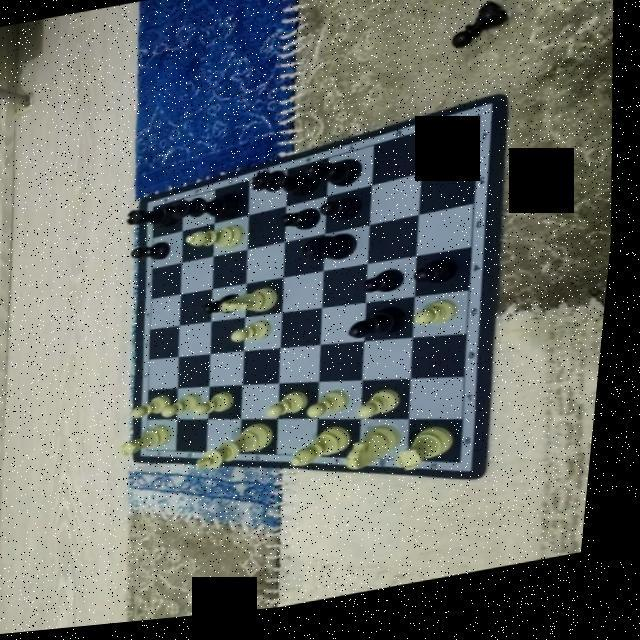chess-table-corners: (474, 118, 490, 132), (461, 468, 476, 480), (150, 206, 164, 217), (149, 448, 161, 459)
